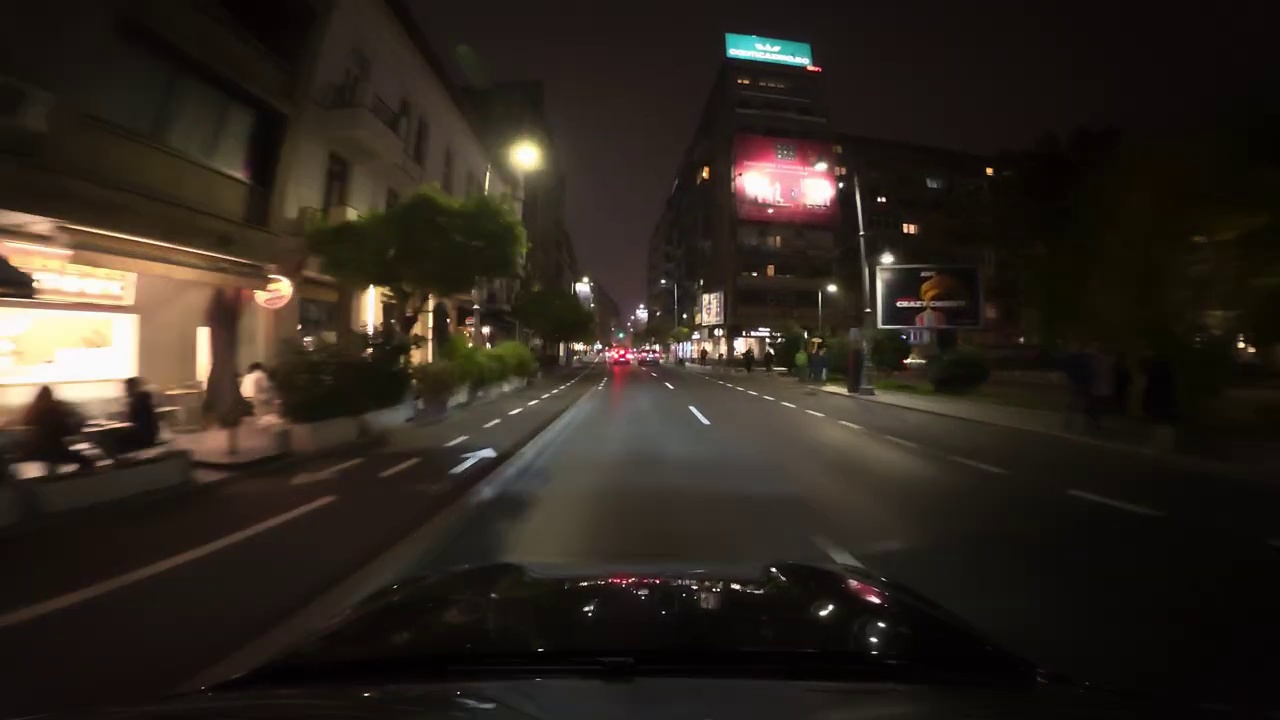acesa: (508, 140, 542, 172), (802, 174, 833, 205)
